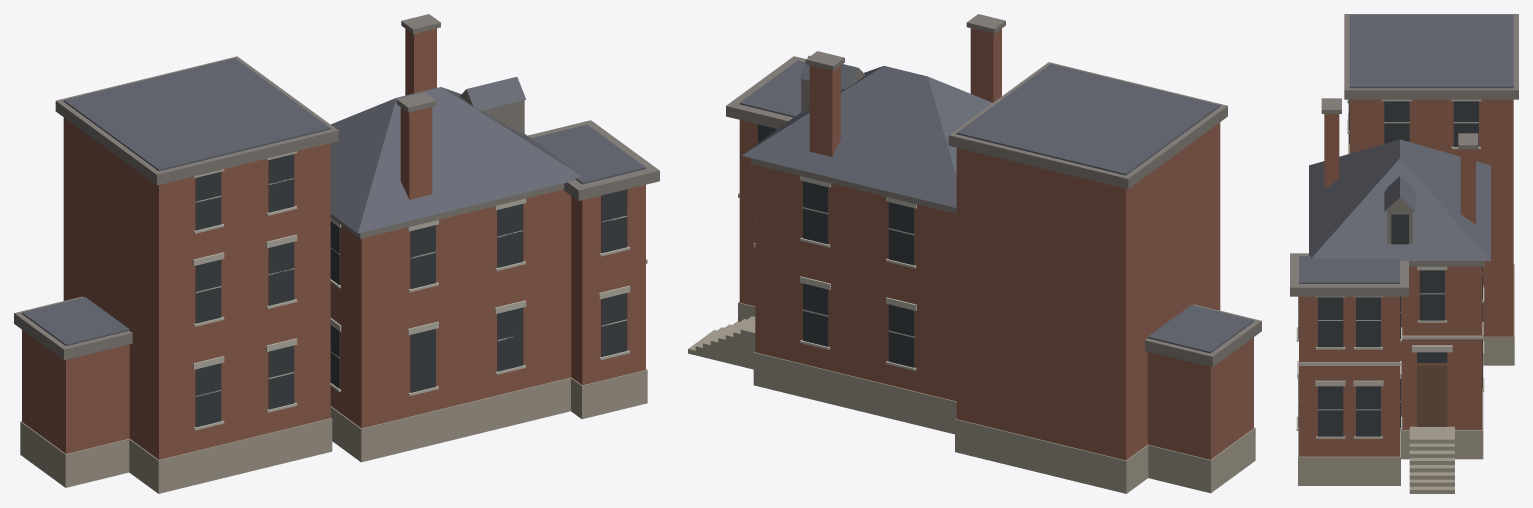
File: house_2124_calumet__draft_1904.glb
3 renders of one model, left to right at view 1: azimuth 30°, elevation 25°; view 2: azimuth 150°, elevation 25°; view 3: azimuth 270°, elevation 25°, orthographic. The views are drawn at different scales.
Parts seen in each view (by area): view 1: house_2124_calumet__draft_1904; view 2: house_2124_calumet__draft_1904; view 3: house_2124_calumet__draft_1904.
Part boxes in pixels (x1,y1,x2,y2): house_2124_calumet__draft_1904: (14, 14, 659, 493); house_2124_calumet__draft_1904: (688, 14, 1261, 493); house_2124_calumet__draft_1904: (1290, 14, 1518, 493).
Bounding box in the file's own units: 21.5 × 12.79 × 9.05.
